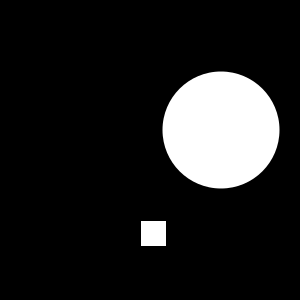circle: (141, 221, 166, 246)
rectangle: (163, 72, 280, 189)
